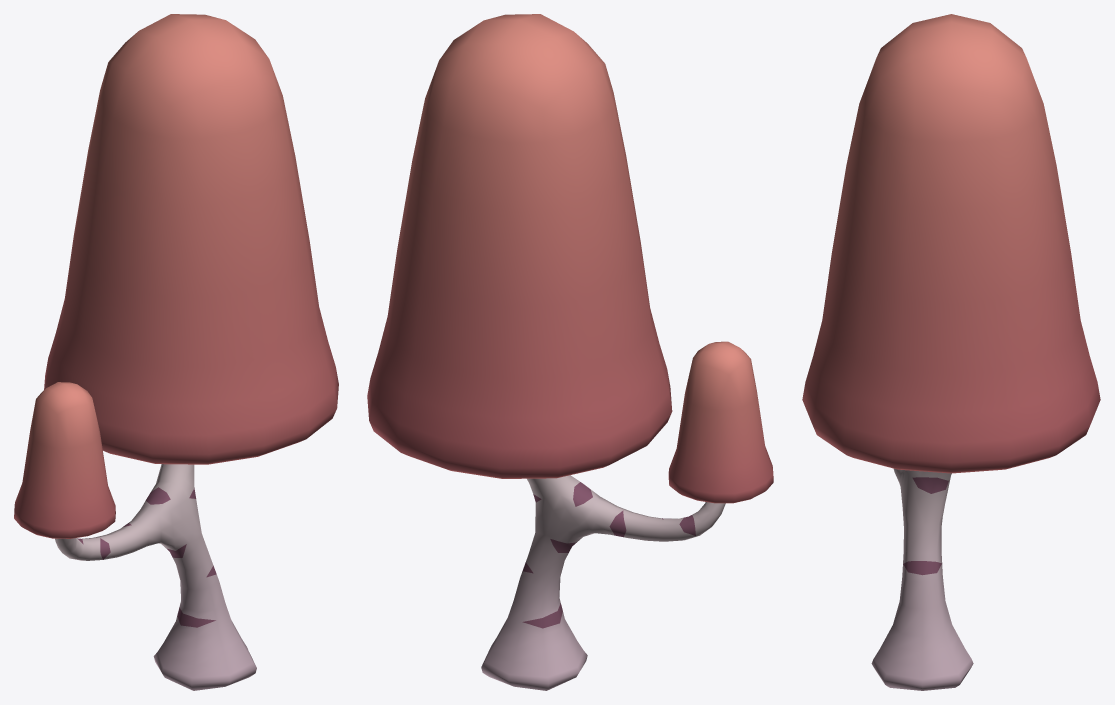
File: Birch1.fbx
3 renders of one model, left to right at view 1: azimuth 30°, elevation 25°; view 2: azimuth 150°, elevation 25°; view 3: azimuth 270°, elevation 25°, orthographic. The views are drawn at different scales.
Visible parts, largest first — view 1: Birch1; view 2: Birch1; view 3: Birch1.
Part boxes in pixels (left/top/right/bottom): Birch1: left=14, top=14, right=338, bottom=690; Birch1: left=367, top=14, right=773, bottom=690; Birch1: left=802, top=14, right=1100, bottom=690.
Bounding box in the file's own units: 316 × 584 × 242.
